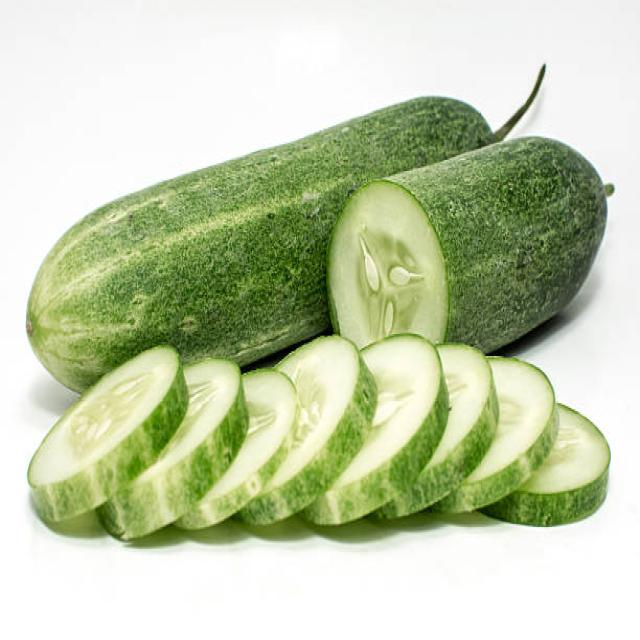cucumber: (26, 93, 494, 401), (327, 135, 607, 356)
